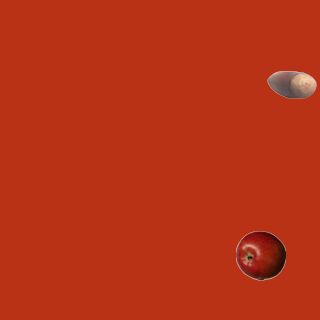Apple Braeburn: (235, 230, 285, 280)
Hazelnut: (266, 59, 316, 109)
